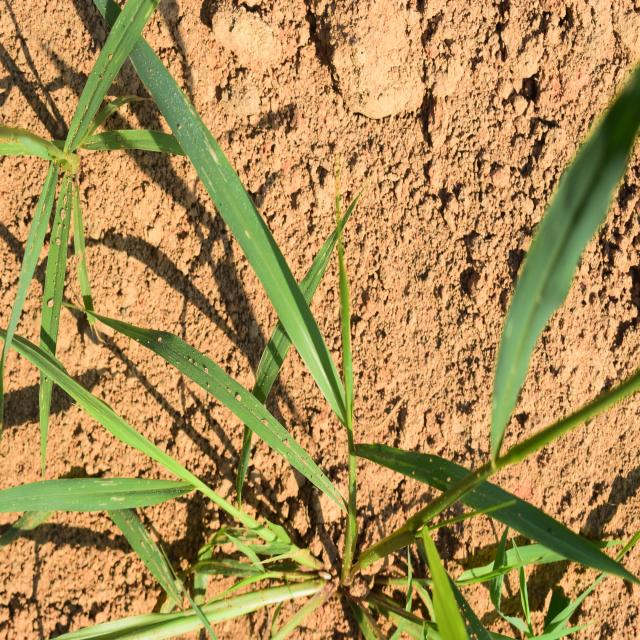green_foxtail: (146, 67, 456, 553), (32, 363, 278, 625), (0, 10, 149, 362)
